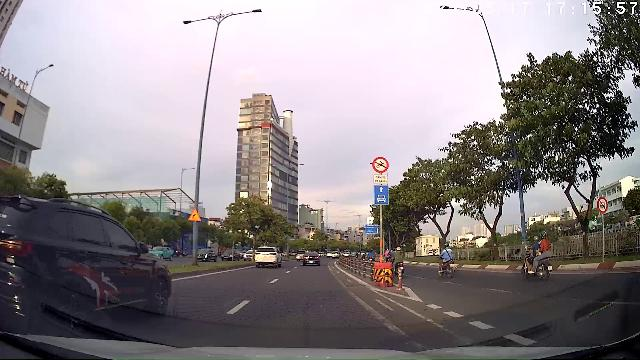103a-cam-oto: (598, 196, 608, 214)
